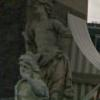Statue: (15, 4, 65, 100)
